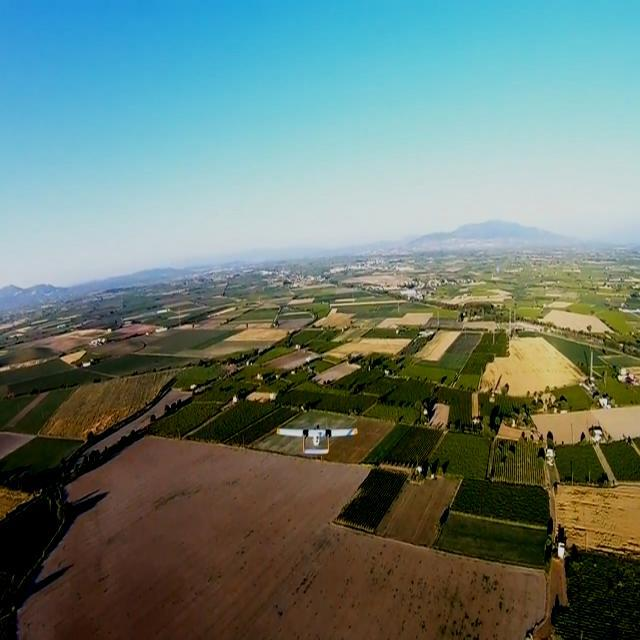iha: (307, 424, 328, 458)
